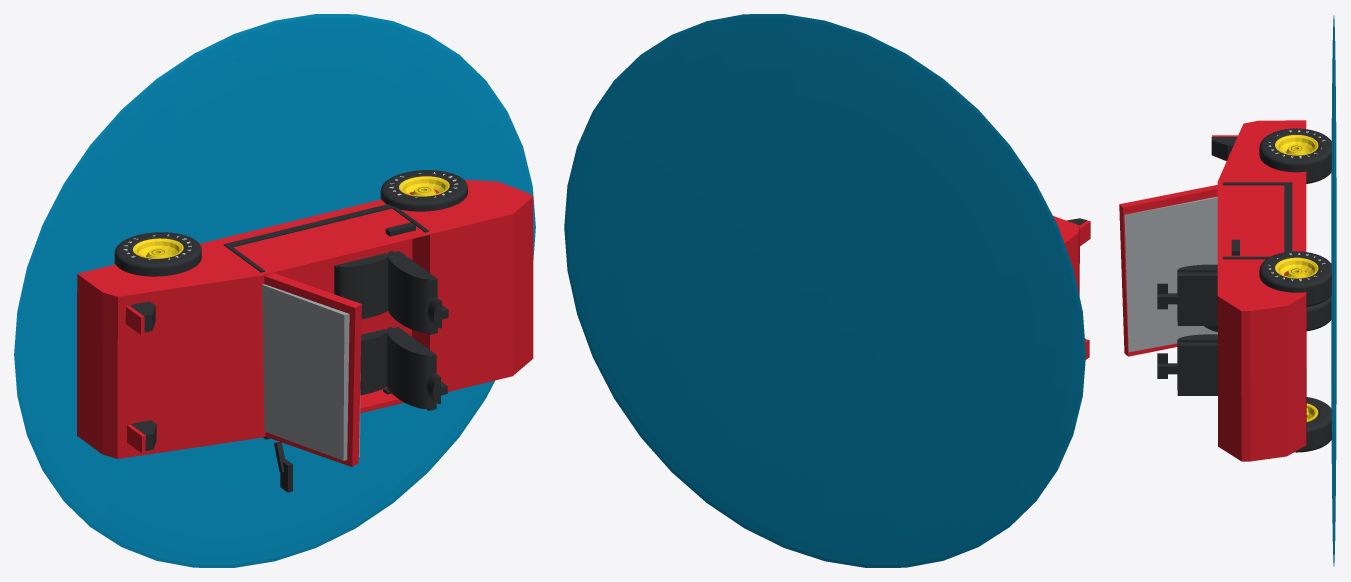
Rendered from tinker.obj.
3 renders of one model, left to right at view 1: azimuth 30°, elevation 25°; view 2: azimuth 150°, elevation 25°; view 3: azimuth 270°, elevation 25°, orthographic. The views are drawn at different scales.
Visible parts, largest first — view 1: group_0_40919, group_0_15277357, group_0_2829873, group_0_10988977, group_0_16768282; view 2: group_0_40919, group_0_15277357; view 3: group_0_15277357, group_0_2829873, group_0_10988977, group_0_40919, group_0_16768282.
Part boxes in pixels (box(x1,y1,x2,y2)): group_0_40919: box(14, 14, 535, 567); group_0_15277357: box(77, 180, 533, 466); group_0_2829873: box(114, 170, 467, 492); group_0_10988977: box(262, 284, 360, 460); group_0_16768282: box(132, 176, 449, 258); group_0_40919: box(564, 14, 1085, 567); group_0_15277357: box(1053, 216, 1090, 359); group_0_15277357: box(1119, 120, 1306, 461); group_0_2829873: box(1157, 128, 1331, 452); group_0_10988977: box(1124, 196, 1217, 352); group_0_40919: box(1331, 15, 1336, 566); group_0_16768282: box(1275, 135, 1318, 422).
Size of the model in its own units: 202 by 200 by 78.63.
